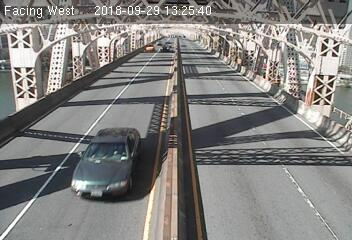car: (74, 124, 141, 201), (144, 42, 154, 52), (160, 44, 172, 52)
